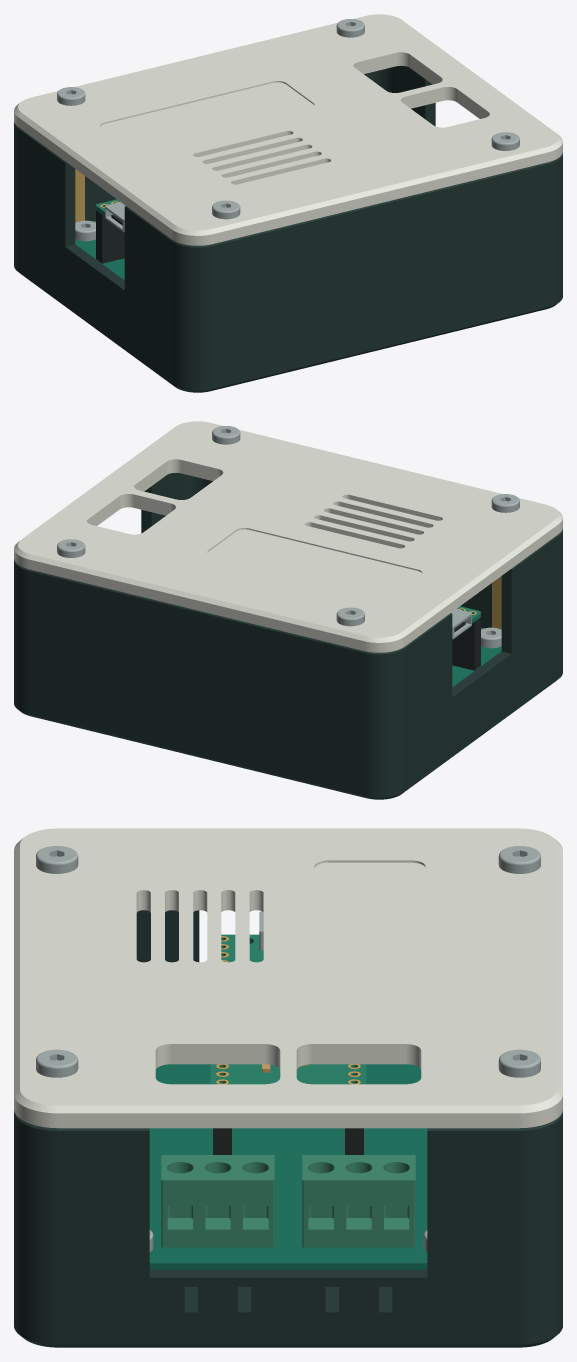
The model's file is lm04b-housing.glb.
The picture shows the model from 3 angles, top to bottom: view 1: azimuth 30°, elevation 25°; view 2: azimuth 150°, elevation 25°; view 3: azimuth 270°, elevation 25°; orthographic projection. The views are drawn at different scales.
Parts seen in each view (by area): view 1: tray, lid, socket-2, carrier, standoff-3, screw-lid-1, screw-lid-4, screw-lid-2, screw-lid-3; view 2: tray, lid, socket-1, carrier, standoff-1, screw-lid-3, screw-lid-2, screw-lid-1, screw-lid-4; view 3: lid, tray, carrier, terminal-1, terminal-2, pico, screw-lid-2, screw-lid-4, screw-lid-1, screw-lid-3.
Part boxes in pixels (box(x1,y1,x2,y2)): tray: box(14, 66, 562, 392); lid: box(14, 14, 562, 245); socket-2: box(96, 221, 124, 263); carrier: box(75, 221, 124, 279); standoff-3: box(75, 169, 84, 222); screw-lid-1: box(212, 200, 240, 219); screw-lid-4: box(336, 19, 364, 37); screw-lid-2: box(491, 132, 519, 150); screw-lid-3: box(57, 87, 85, 105); tray: box(14, 473, 562, 799); lid: box(14, 421, 562, 652); socket-1: box(452, 628, 480, 670); carrier: box(452, 628, 501, 686); standoff-1: box(492, 576, 501, 629); screw-lid-3: box(336, 607, 364, 626); screw-lid-2: box(212, 426, 240, 444); screw-lid-1: box(491, 494, 519, 512); screw-lid-4: box(57, 539, 85, 557); lid: box(14, 828, 562, 1128); tray: box(14, 910, 562, 1347); carrier: box(149, 1064, 427, 1269); terminal-1: box(161, 1155, 274, 1247); terminal-2: box(302, 1155, 415, 1247); pico: box(210, 934, 366, 1084); screw-lid-2: box(36, 1049, 78, 1077); screw-lid-4: box(498, 1049, 540, 1077); screw-lid-1: box(36, 846, 78, 873); screw-lid-3: box(498, 846, 540, 873).
Size of the model in its own units: 0.09 by 0.0377 by 0.074.
